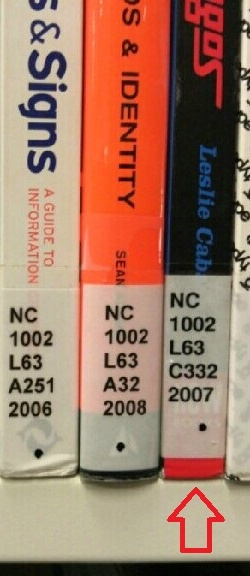call_number: (81, 286, 160, 470), (0, 289, 79, 467), (162, 275, 226, 462)
